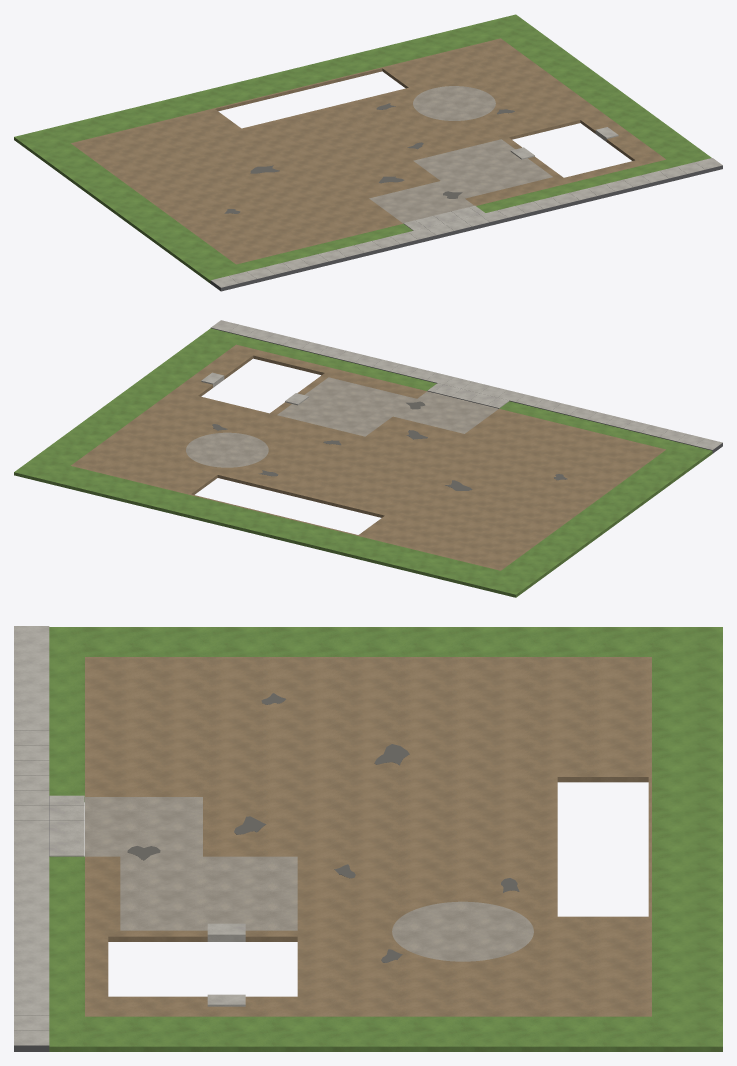
Rendered from site.glb.
3 renders of one model, top to bottom at view 1: azimuth 30°, elevation 25°; view 2: azimuth 150°, elevation 25°; view 3: azimuth 270°, elevation 25°, orthographic. The views are drawn at different scales.
Parts seen in each view (by area): view 1: site_dirt, site_grass, site_gravel, site_concrete, site_dark, site_oil; view 2: site_dirt, site_grass, site_gravel, site_concrete, site_oil, site_dark; view 3: site_dirt, site_grass, site_gravel, site_concrete, site_oil.
Boxes of the visible parts, x1,y1,x2,y2 form: site_dirt: [71, 38, 665, 264]; site_grass: [14, 14, 711, 283]; site_gravel: [369, 86, 552, 223]; site_concrete: [211, 127, 722, 287]; site_dark: [210, 165, 722, 291]; site_oil: [224, 103, 514, 213]; site_dirt: [71, 344, 665, 570]; site_grass: [14, 328, 712, 597]; site_gravel: [186, 377, 498, 467]; site_concrete: [201, 320, 722, 449]; site_oil: [212, 401, 567, 490]; site_dark: [211, 328, 722, 453]; site_dirt: [85, 657, 651, 1016]; site_grass: [49, 627, 722, 1051]; site_gravel: [85, 797, 533, 961]; site_concrete: [14, 626, 245, 1045]; site_oil: [127, 693, 519, 962].
Bounding box in the file's own units: 42 × 0.345 × 30.
Materials: 6 (4 with a texture image).
